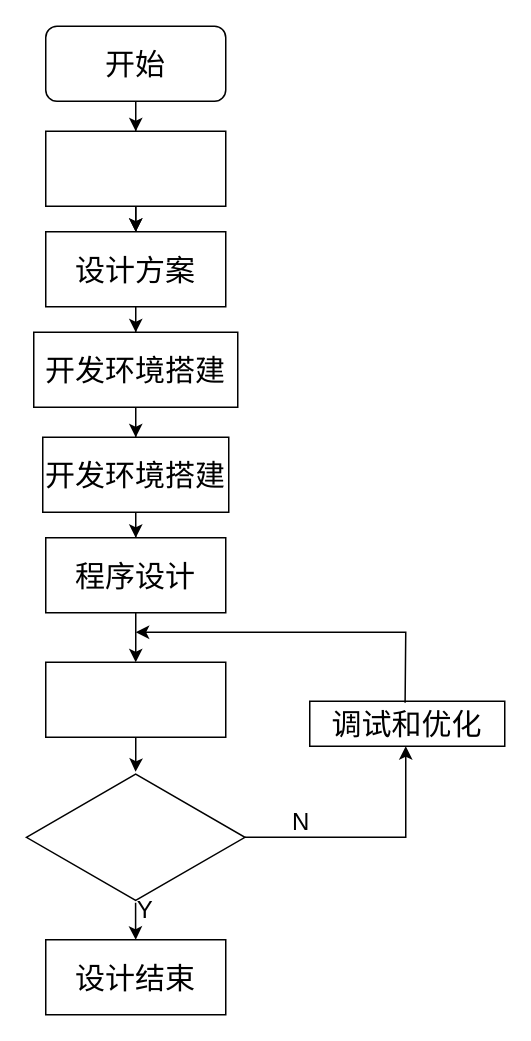
The diagram is 531 pixels wide and 1041 high, and some of its shapes have lost their labels. The shapes that lost their labels are listed below. From the top down, each one's centre as x and y in pixels, then its label:
At point (135, 168): "需求分析".
At point (135, 699): "测试".
At point (135, 836): "是否满足要求".
